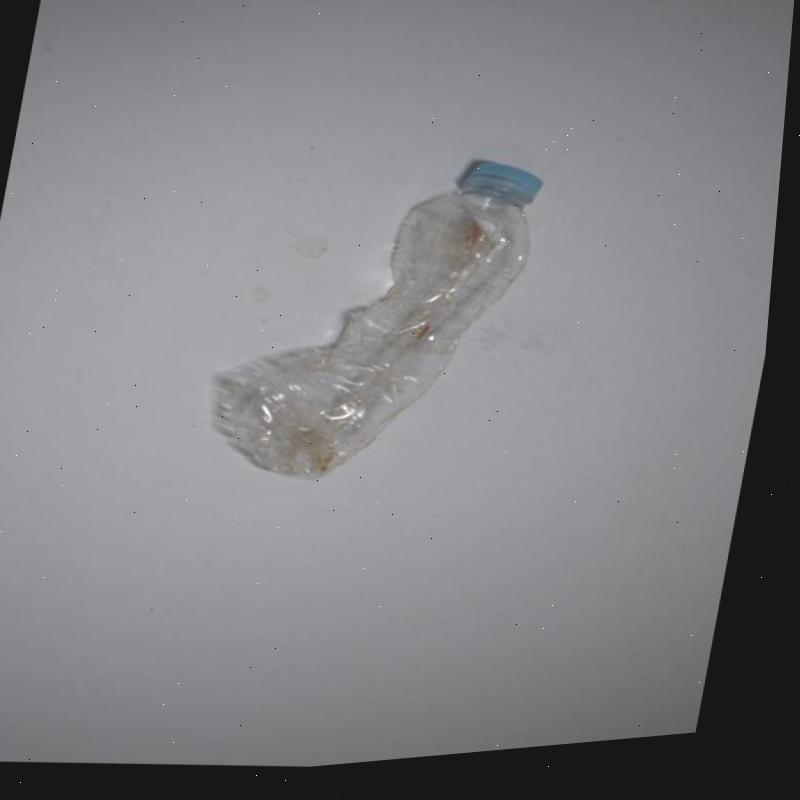botella: (216, 140, 556, 518)
